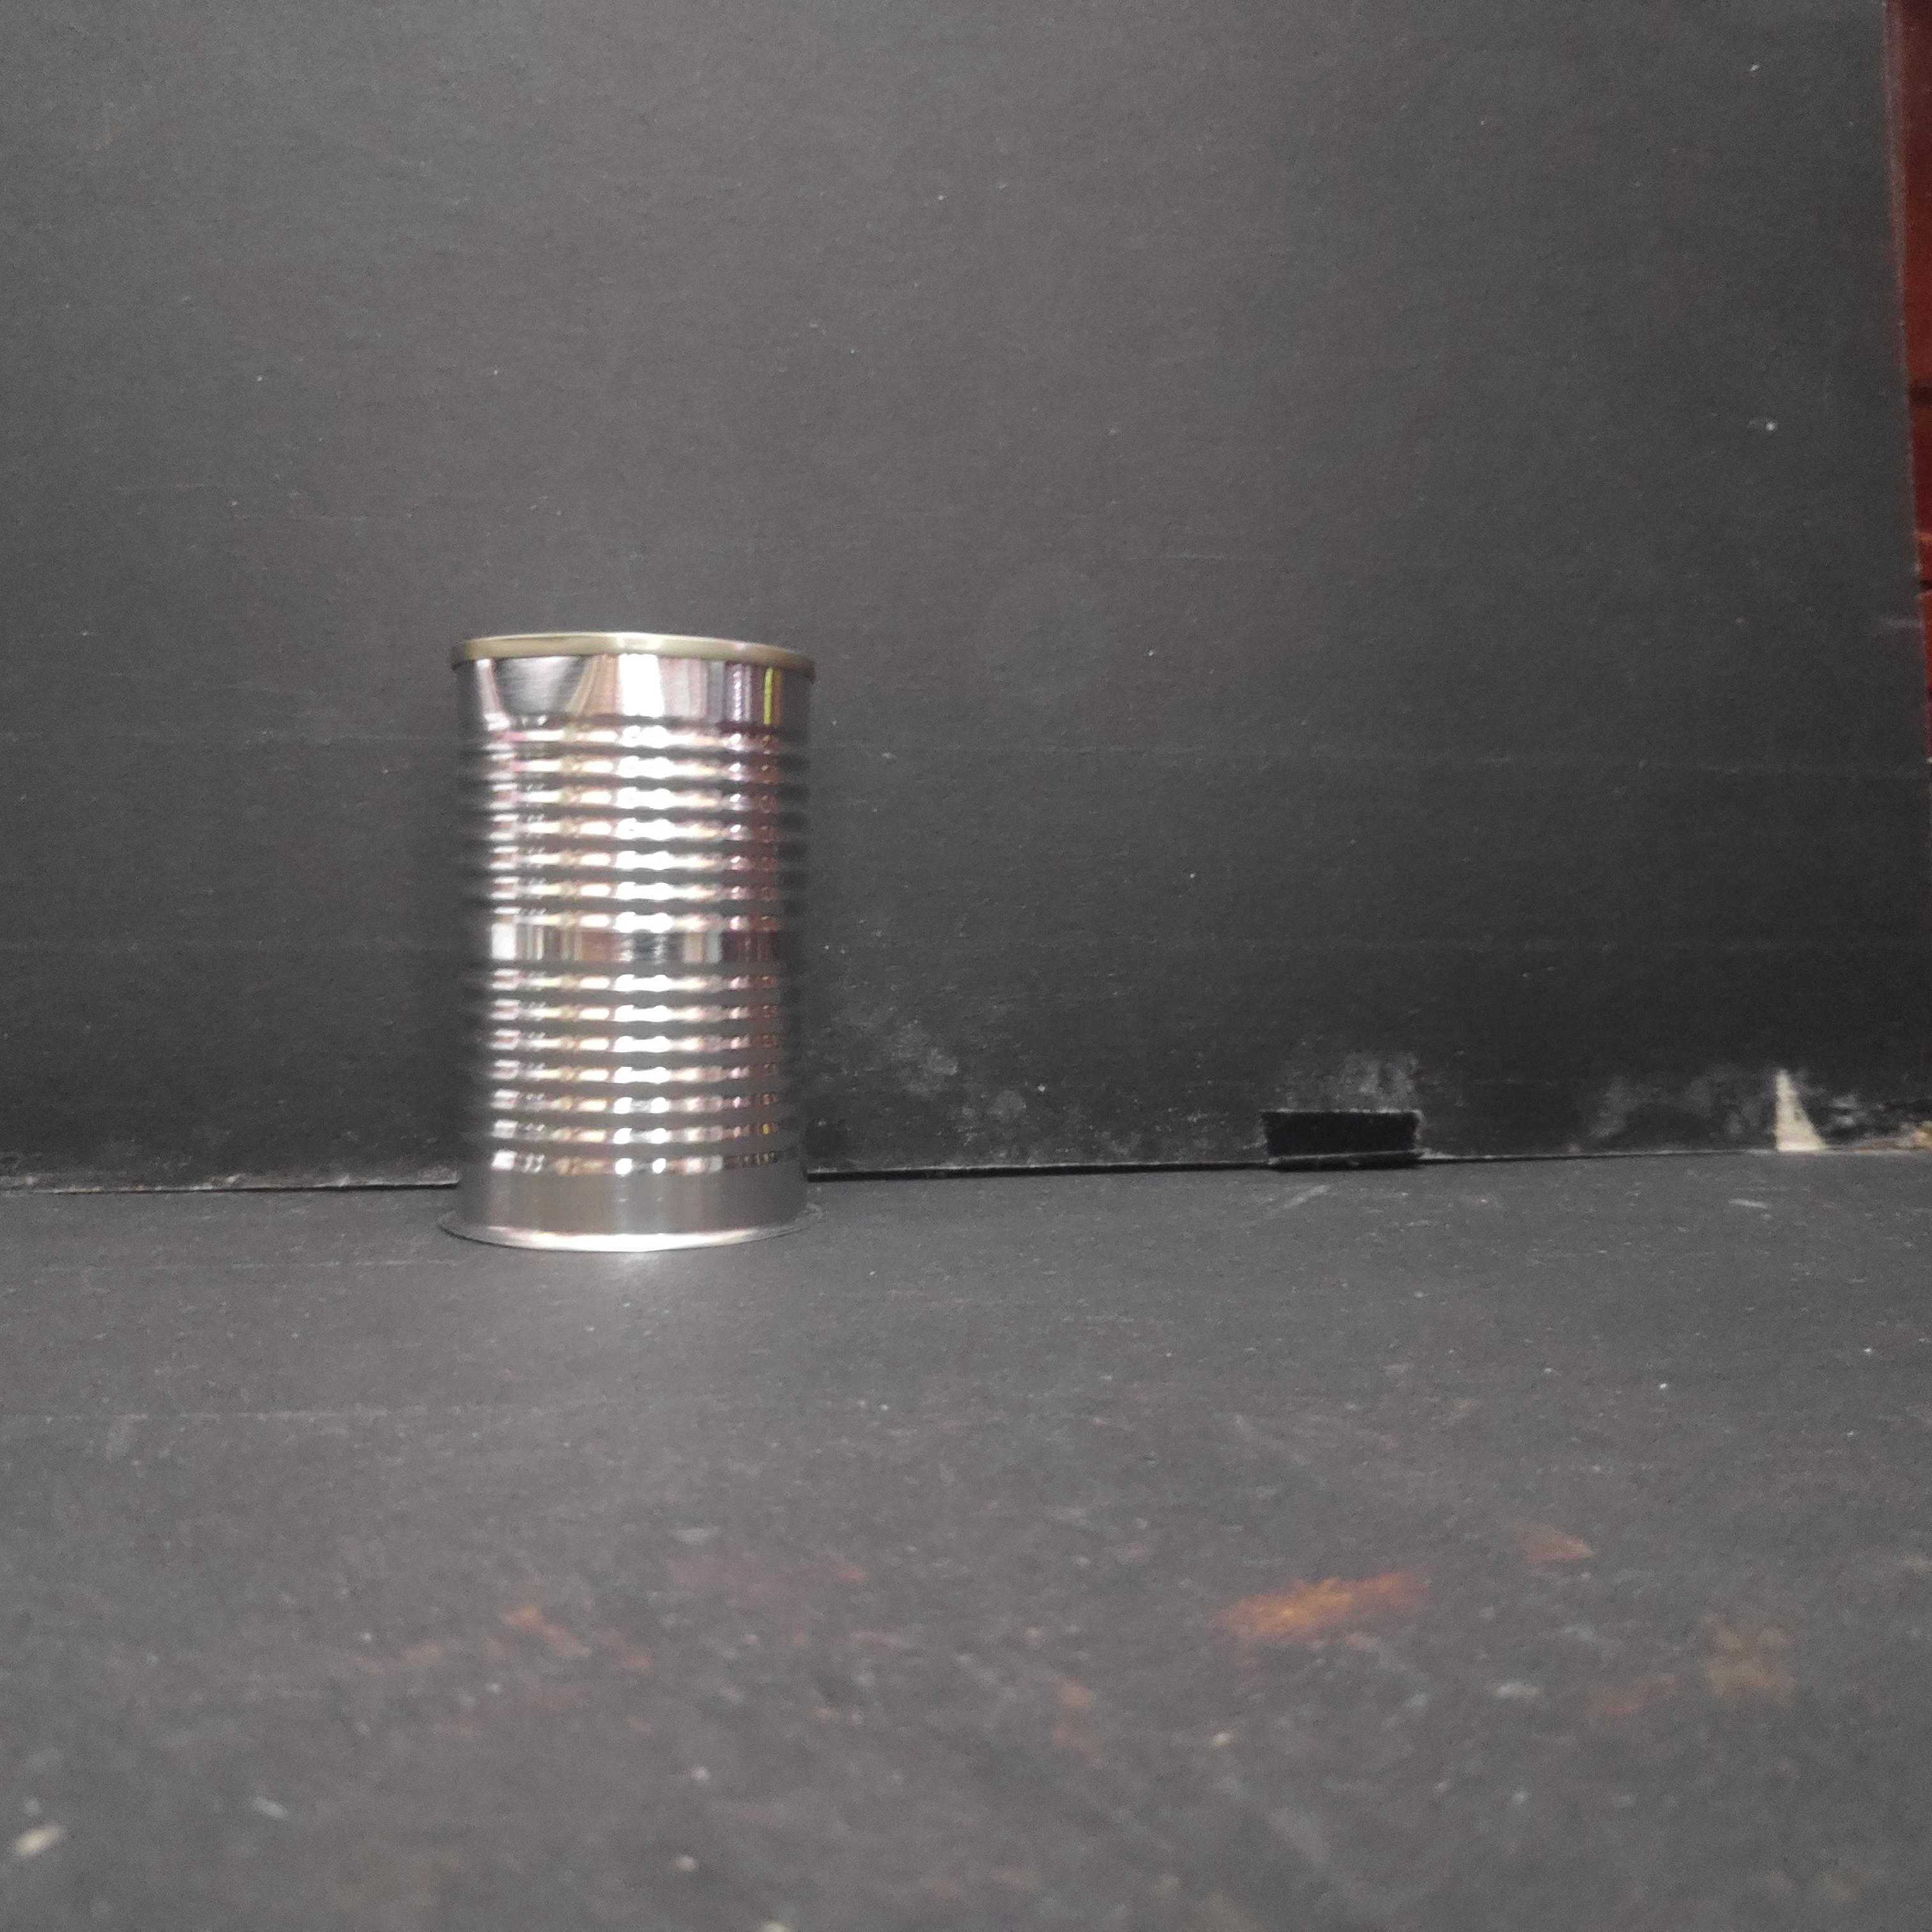Minor Defect: (435, 614, 814, 1269)
